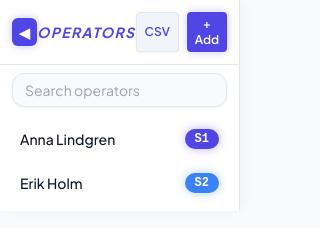
it: OperatorPanel › filters operators by name (case-insensitive)
In the field with placeholder "Search operators": x=120, y=90 [12, 73, 227, 107], type "anna"
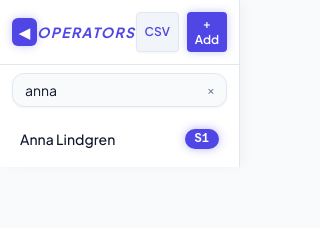
Expected: the text "Anna Lindgren" is shown, [20, 130, 115, 148]
Expected: the text "Erik Holm" is gone
